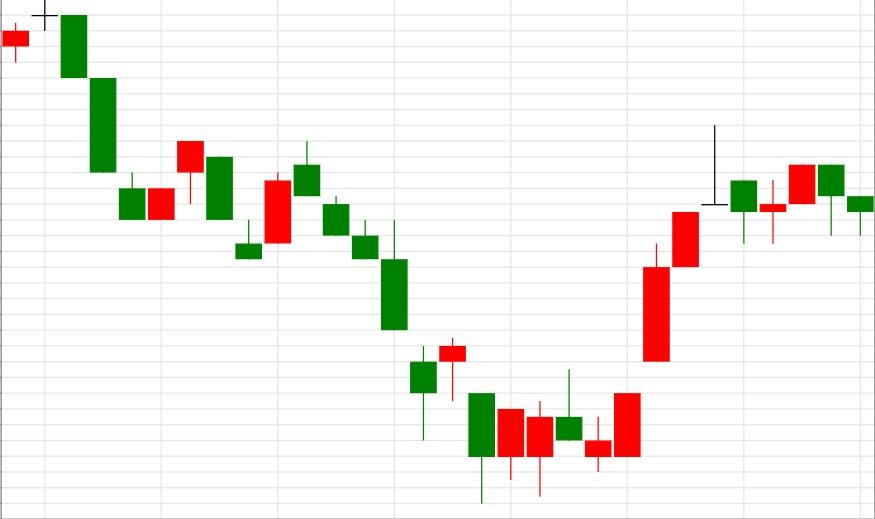three_black_crows_fall: (235, 141, 379, 260)
three_white_soldiers_rise: (439, 211, 700, 505)
